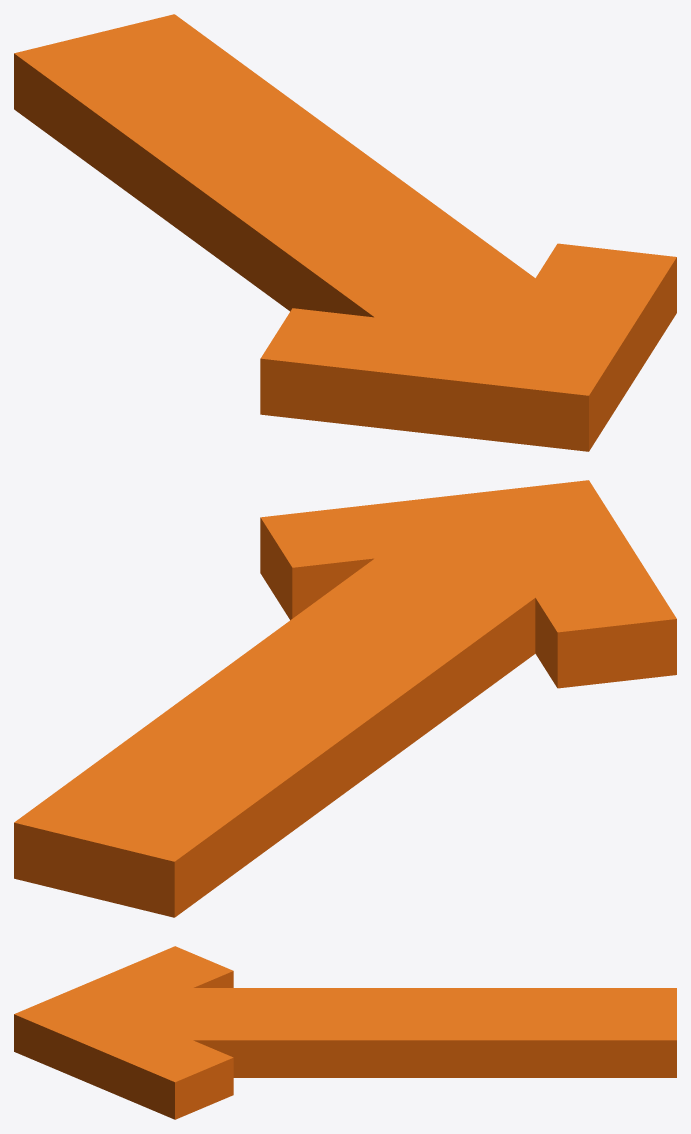
Rendered from Arrow Orange.glb.
The picture shows the model from 3 angles, top to bottom: view 1: azimuth 30°, elevation 25°; view 2: azimuth 150°, elevation 25°; view 3: azimuth 270°, elevation 25°; orthographic projection. The views are drawn at different scales.
Visible parts, largest first — view 1: cube; view 2: cube; view 3: cube.
Part boxes in pixels (x1,y1,x2,y2): cube: [14, 14, 676, 451]; cube: [14, 480, 676, 917]; cube: [14, 946, 676, 1119].
Bounding box in the file's own units: 0.9723 × 0.125 × 2.
Materials: 1 (1 with a texture image).
